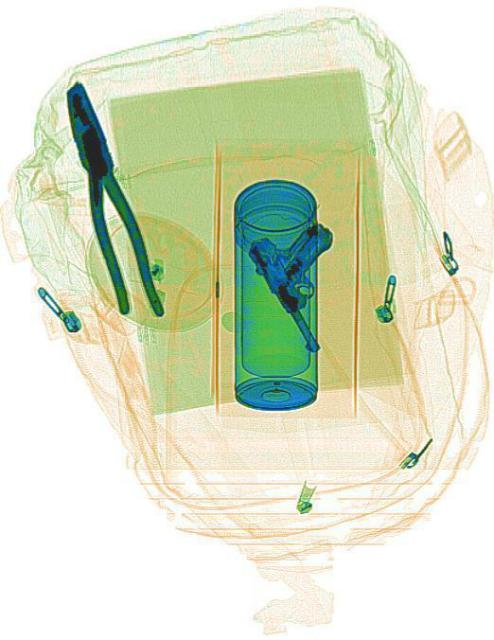Gun: (241, 192, 371, 358)
Pliers: (51, 73, 164, 330)
